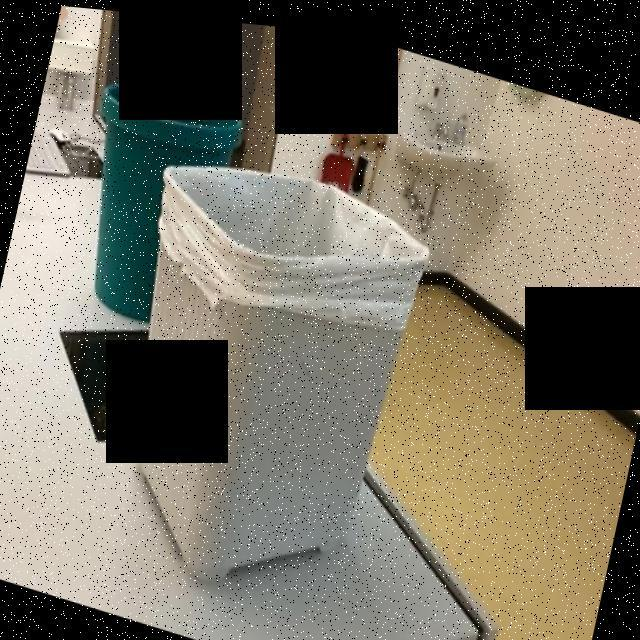bin: (81, 38, 487, 639)
